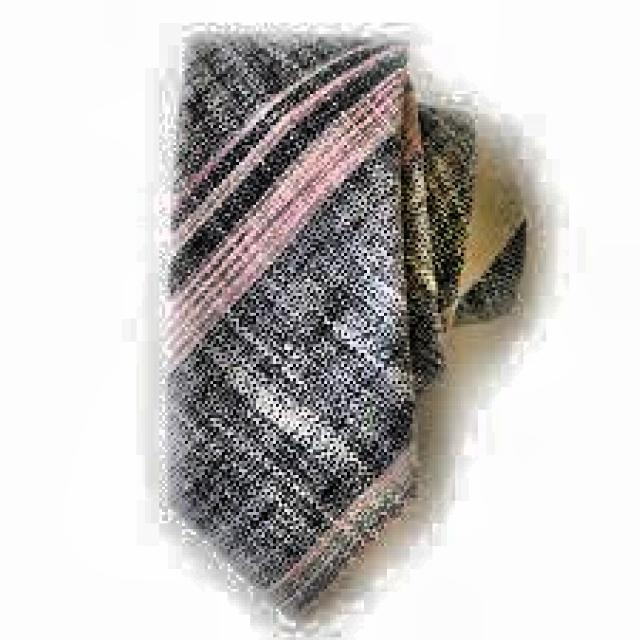Tie: (159, 32, 526, 618)
